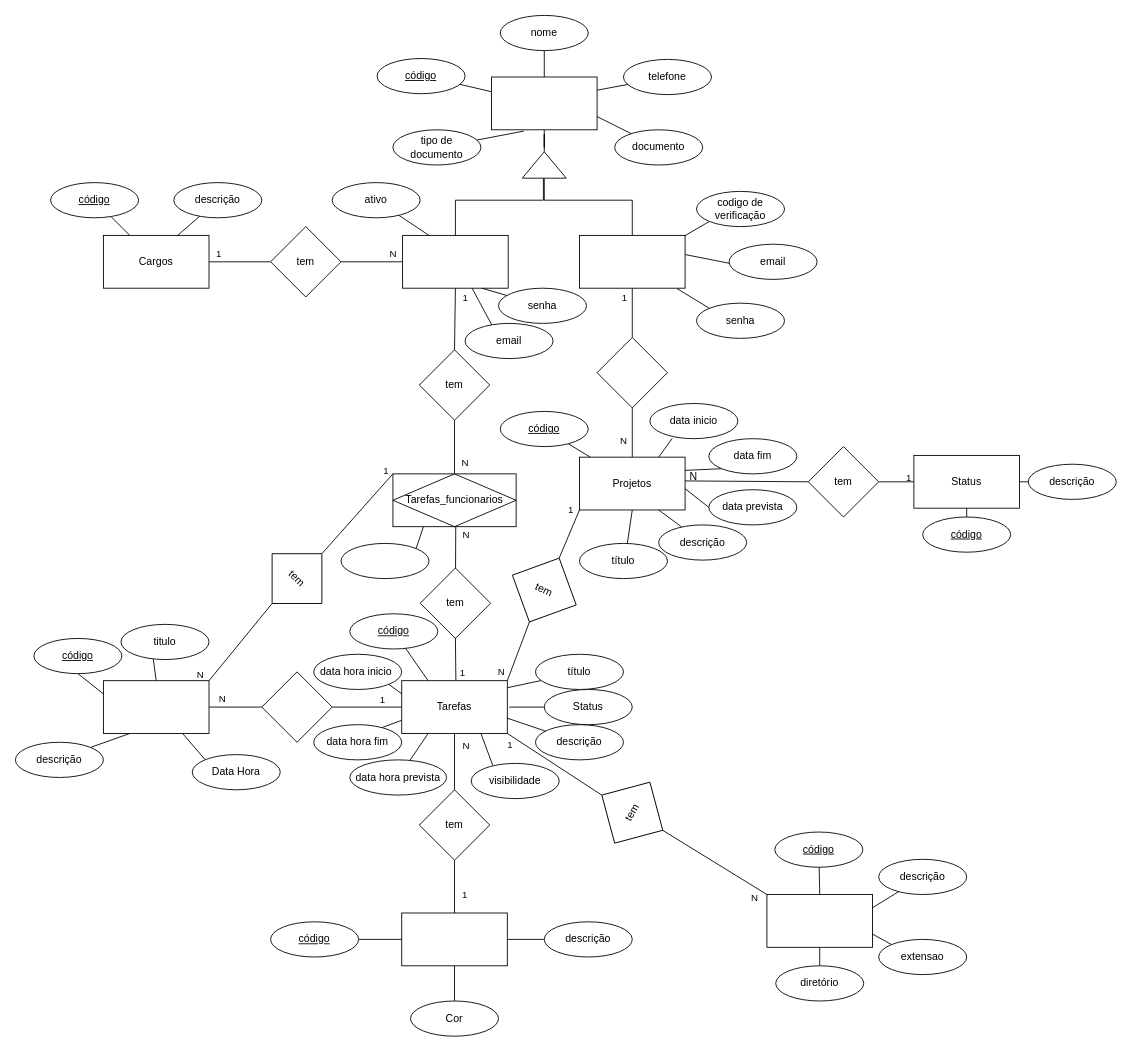
Image size: 1132x1052. Some labels were removed from this diagram. Each missing label, with the centre of its shape:
"abre" belongs at pixel 631 372.
"Categorias" belongs at pixel 454 939.
"Clientes" belongs at pixel 632 261.
"Comentarios" belongs at pixel 156 706.
"Documentos" belongs at pixel 819 920.
"Funcionários" belongs at pixel 455 261.
"Pessoa" belongs at pixel 544 103.
"possui" belongs at pixel 296 706.
"responsavel" belongs at pixel 384 561.
